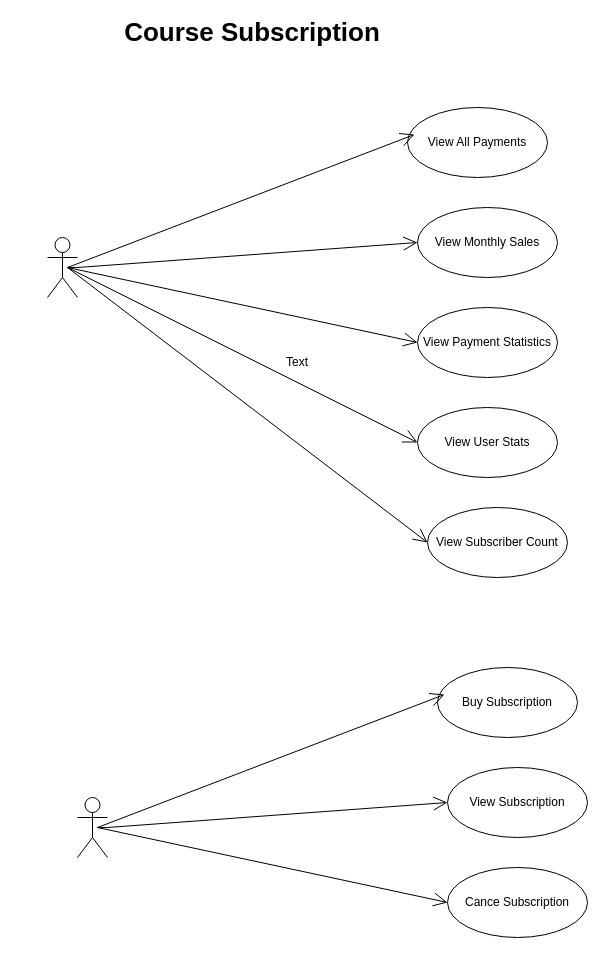
The diagram is 605 pixels wide and 955 high, and some of its shapes have lost their labels. The centre of each missing label's shape, as x and y in pixels:
"Admin" goes at pixel 62 267.
"User" goes at pixel 92 827.
